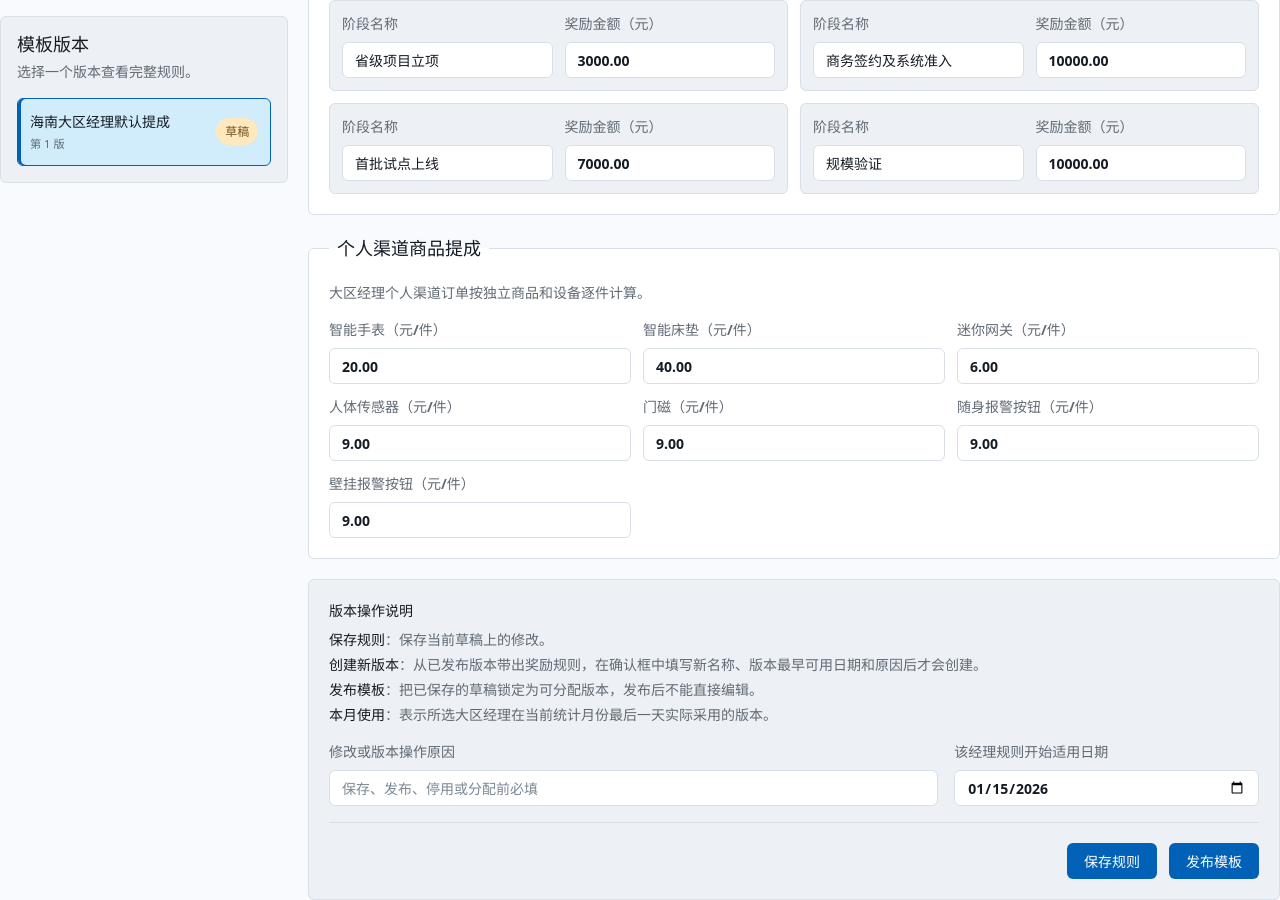
Test case: 大区经理提成模板规则编辑器 › 没有填写原因时阻止保存
(page scrolled)
Click the button "保存规则" at (1112, 861), box [1067,843,1157,879]
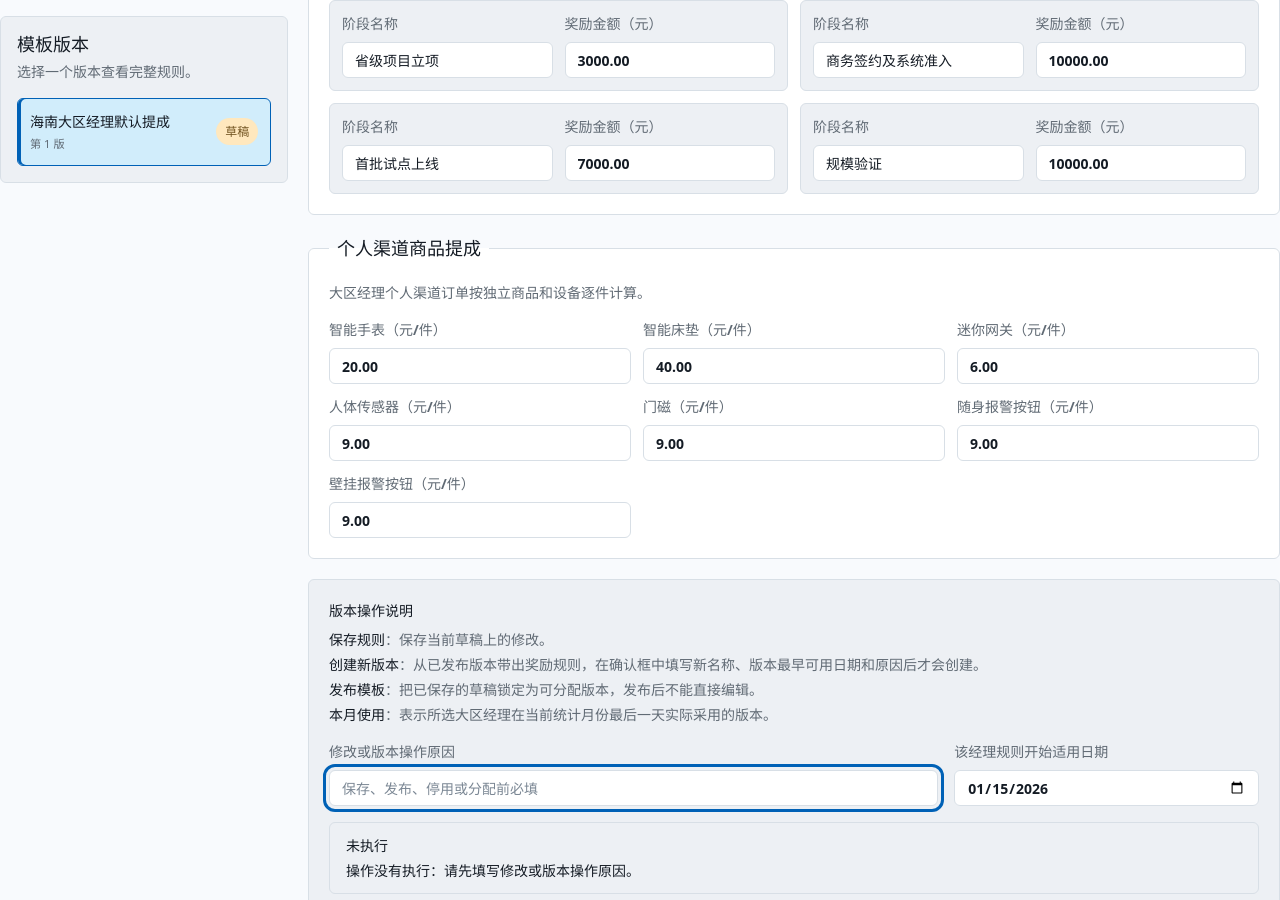
expect the message shows "请先填写修改或版本操作原因": met, box [346,861,640,880]
